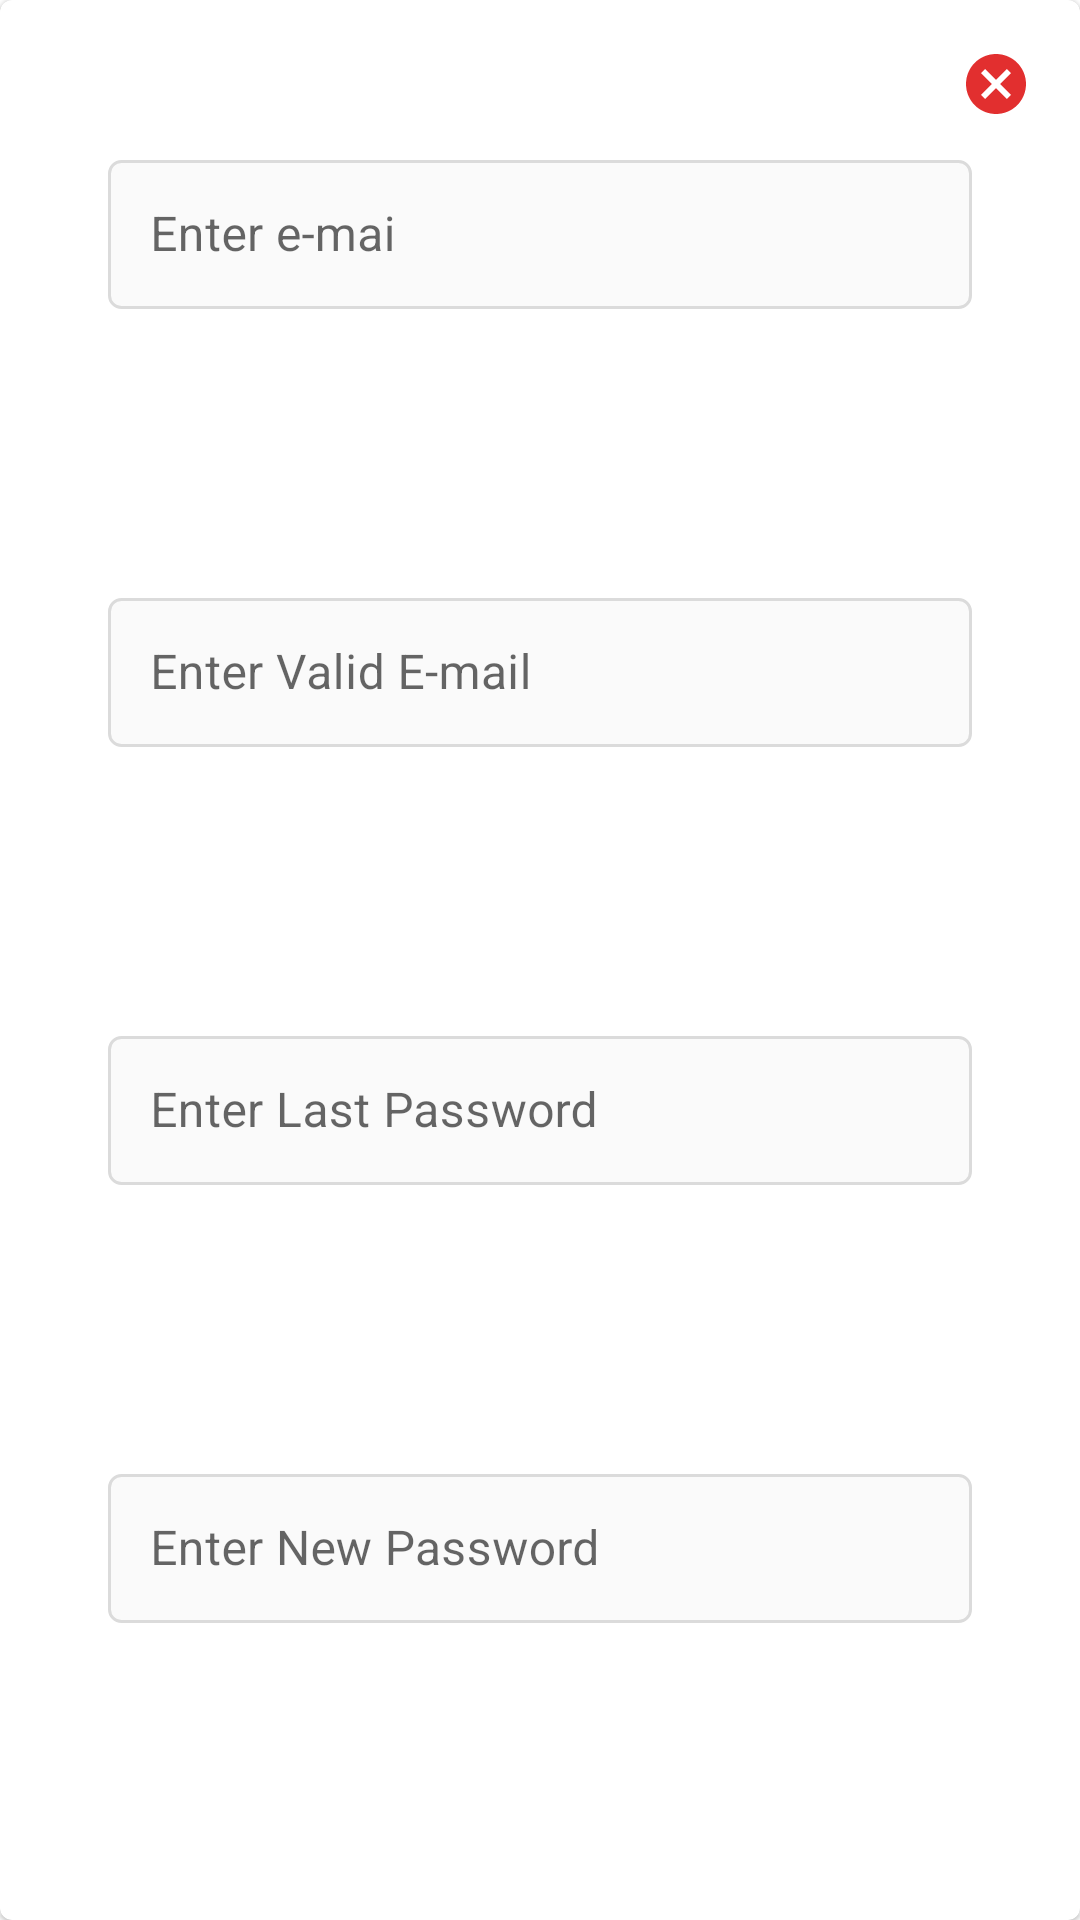

Locate icon controls on the screen. Image size 1080px x 1920px, boxes as box=[x1, y1, x2, y2].
Cancelar mudança dos dados: box=[966, 54, 1026, 114]
